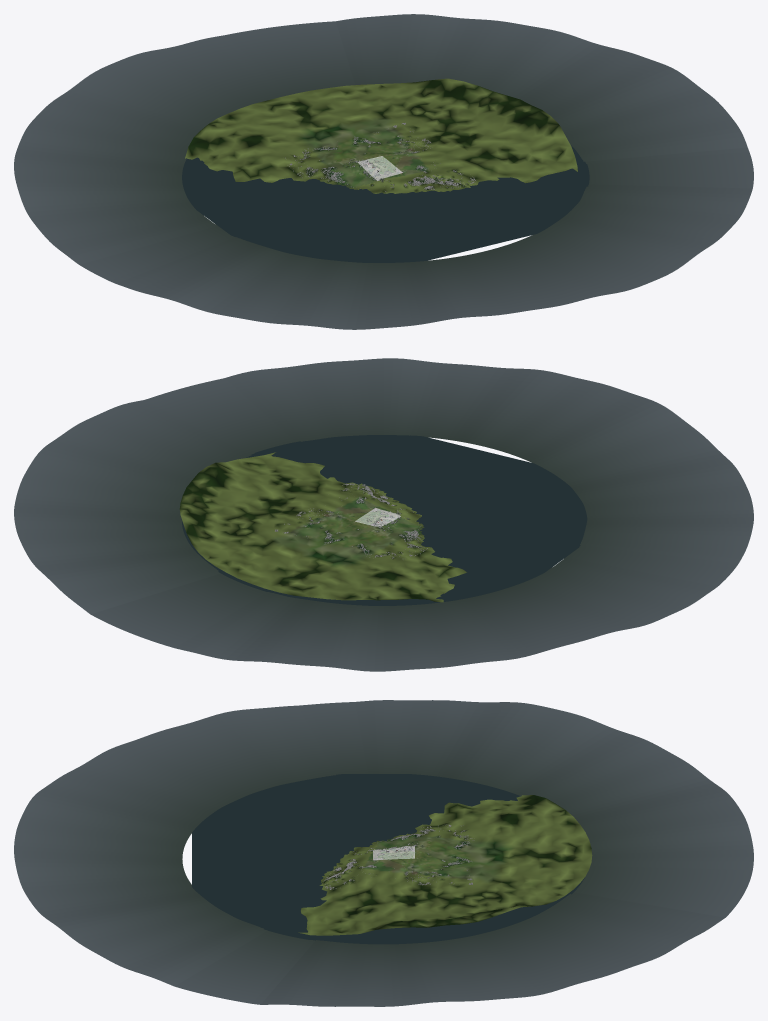
File: byneset_south_04.gltf
The picture shows the model from 3 angles, top to bottom: view 1: azimuth 30°, elevation 25°; view 2: azimuth 150°, elevation 25°; view 3: azimuth 270°, elevation 25°; orthographic projection.
Parts seen in each view (by area): view 1: FAR_Horizon, SURF_Far, WATER_Sea, FAR_Trees; view 2: FAR_Horizon, SURF_Far, WATER_Sea, FAR_Trees; view 3: FAR_Horizon, WATER_Sea, SURF_Far, FAR_Trees.
Part boxes in pixels (x1,y1,x2,y2): FAR_Horizon: (14, 14, 753, 329); SURF_Far: (185, 78, 577, 193); WATER_Sea: (182, 145, 589, 262); FAR_Trees: (285, 123, 475, 191); FAR_Horizon: (14, 358, 753, 671); SURF_Far: (179, 452, 466, 602); WATER_Sea: (182, 435, 587, 605); FAR_Trees: (275, 483, 427, 558); FAR_Horizon: (14, 700, 753, 1006); WATER_Sea: (192, 774, 584, 944); SURF_Far: (298, 795, 592, 935); FAR_Trees: (323, 824, 474, 889).
Bounding box in the file's own units: 11200 × 275 × 11200.
